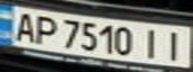0: (112, 24, 139, 56)
1: (96, 22, 115, 54)
5: (78, 19, 100, 52)
7: (57, 17, 81, 50)
A: (9, 9, 39, 43)
I: (160, 28, 190, 61), (139, 26, 166, 60)
P: (30, 12, 60, 46)
